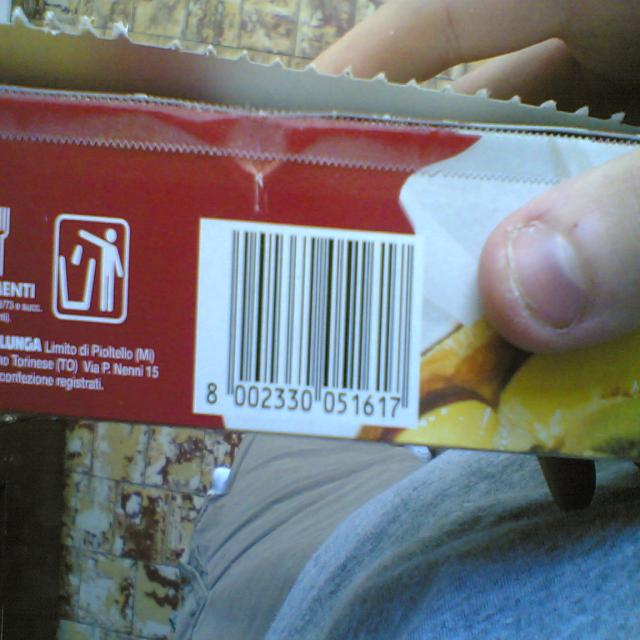barcode: (206, 239, 421, 422)
